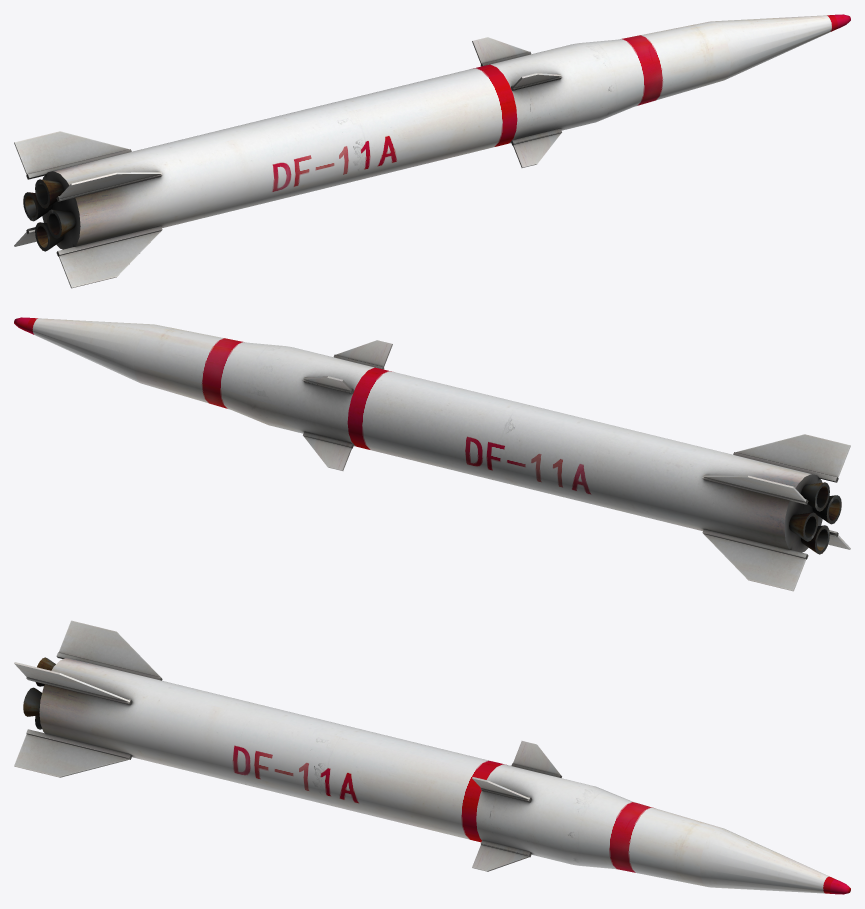
Rendered from missile.glb.
3 renders of one model, top to bottom at view 1: azimuth 30°, elevation 25°; view 2: azimuth 150°, elevation 25°; view 3: azimuth 330°, elevation 25°, orthographic.
Visible parts, largest first — view 1: Dd; view 2: Dd; view 3: Dd.
Boxes of the visible parts, <box> form: Dd: <box>14,14,850,288</box>; Dd: <box>14,317,850,591</box>; Dd: <box>14,620,850,894</box>.
Size of the model in its own units: 18.28 by 2.27 by 2.27.
Materials: 1 (1 with a texture image).
